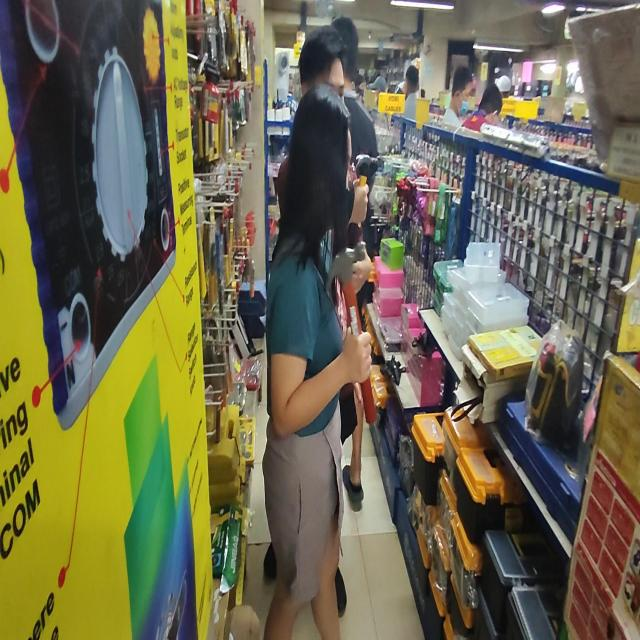hammer: (327, 243, 377, 424), (348, 152, 380, 230)
